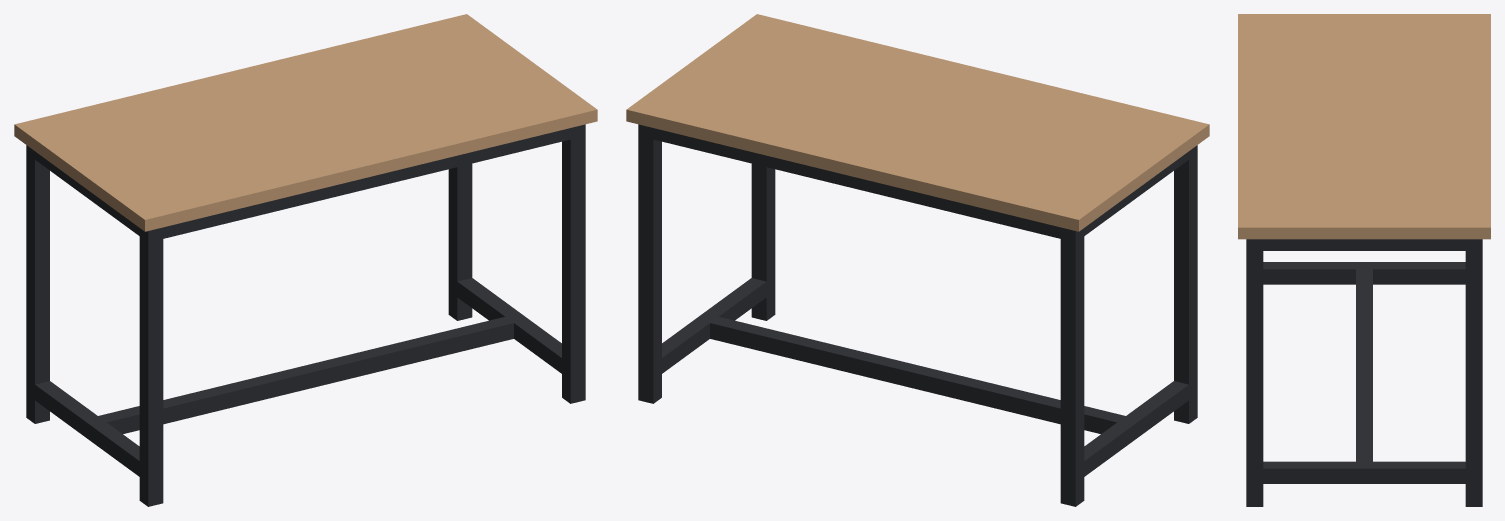
The model's file is custom-steel.glb.
3 renders of one model, left to right at view 1: azimuth 30°, elevation 25°; view 2: azimuth 150°, elevation 25°; view 3: azimuth 270°, elevation 25°, orthographic. The views are drawn at different scales.
Visible parts, largest first — view 1: 나무 상판, 철제 틀; view 2: 나무 상판, 철제 틀; view 3: 나무 상판, 철제 틀.
Part boxes in pixels (x1,y1,x2,y2): 나무 상판: (14,14,597,231); 철제 틀: (26,124,585,506); 나무 상판: (626,14,1209,231); 철제 틀: (638,124,1197,506); 나무 상판: (1238,14,1490,239); 철제 틀: (1246,239,1482,506).
Size of the model in its own units: 1.2 by 0.74 by 0.6.
